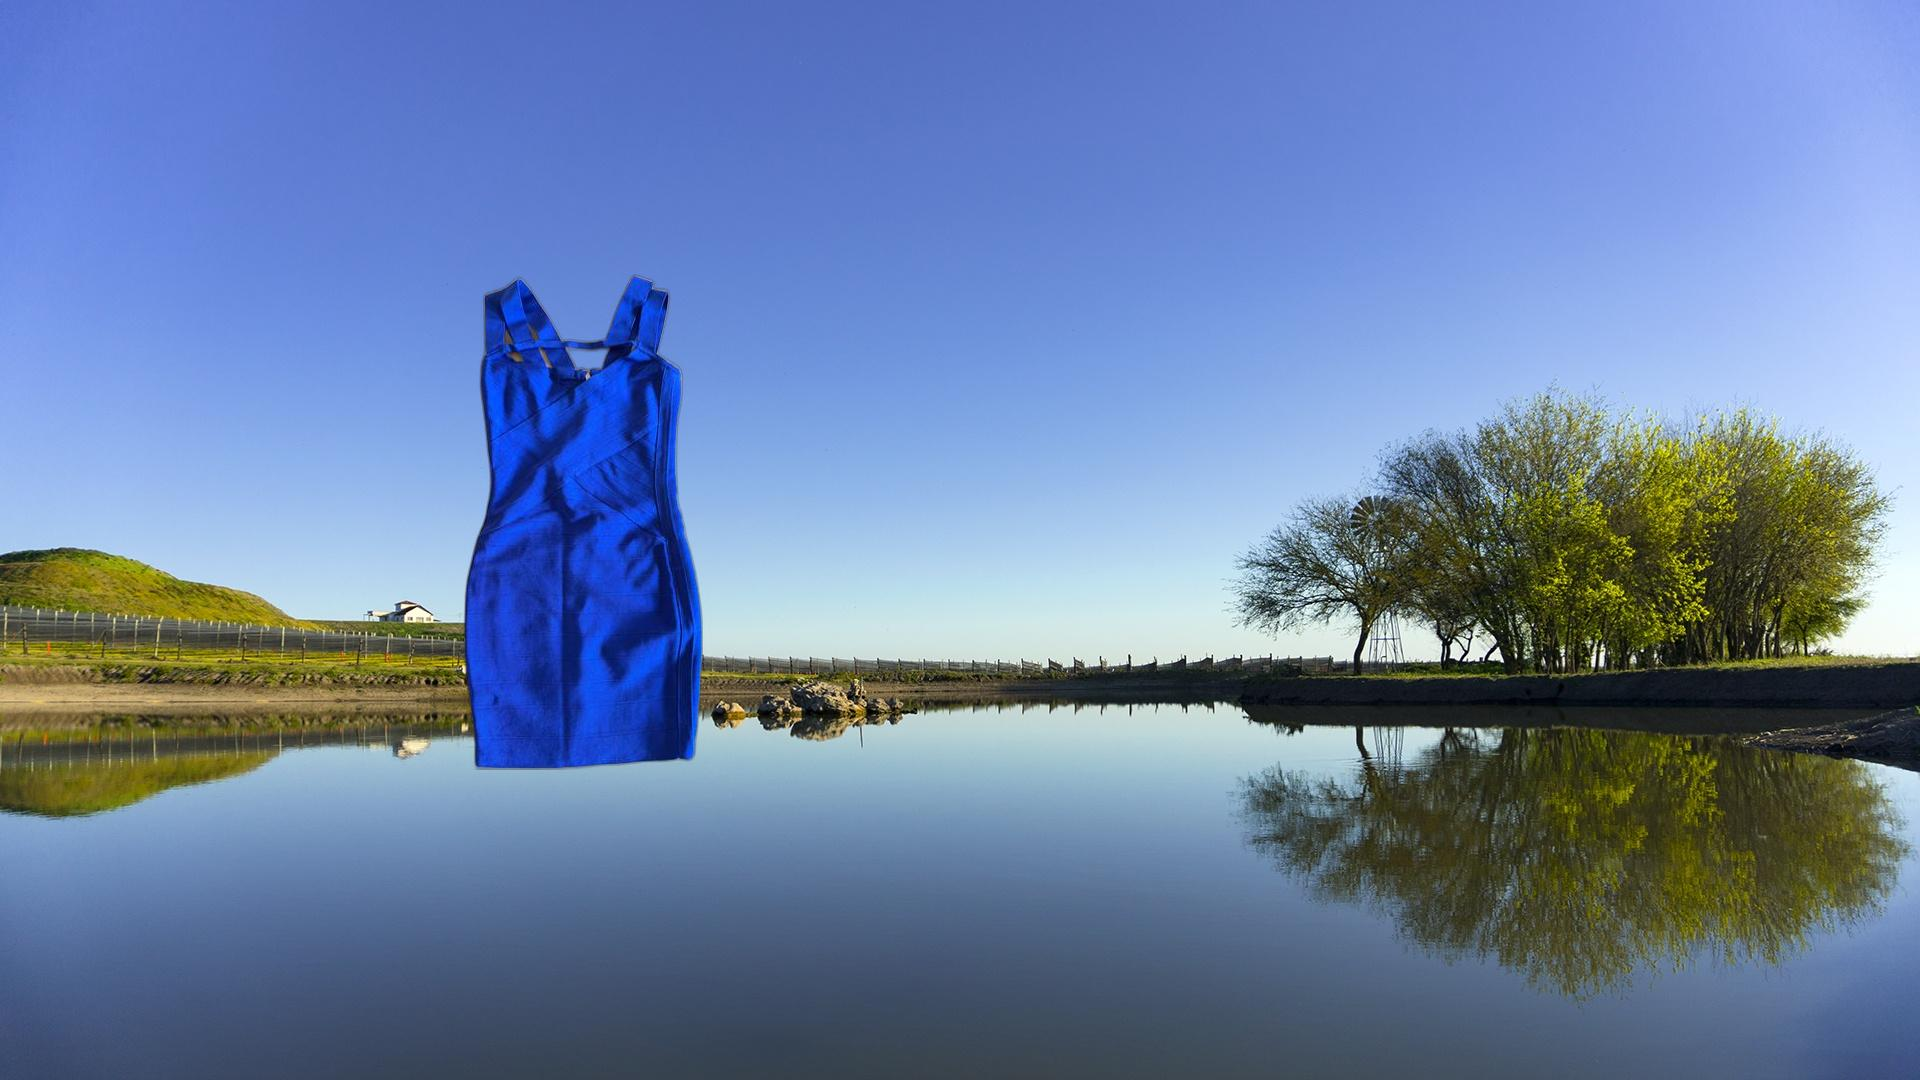clothes: (462, 270, 756, 770)
